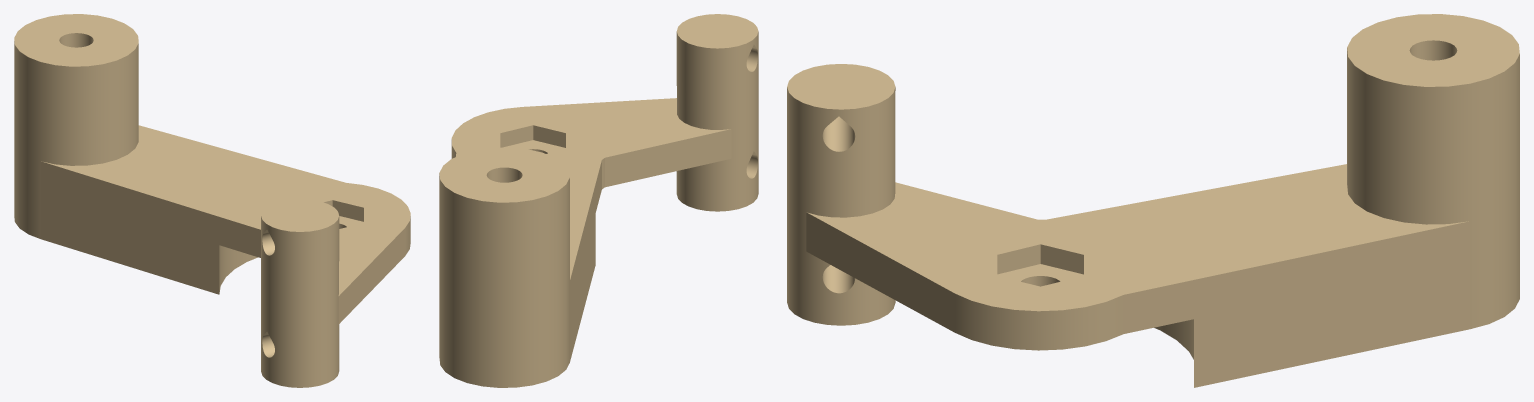
Rendered from arbre_susp_gauche.obj.
3 views of the same model, side by side, from view 1: azimuth 30°, elevation 25°; view 2: azimuth 150°, elevation 25°; view 3: azimuth 270°, elevation 25° (orthographic). The views are drawn at different scales.
Visible parts, largest first — view 1: arbre_susp_gauche; view 2: arbre_susp_gauche; view 3: arbre_susp_gauche.
Boxes of the visible parts, <box> form: arbre_susp_gauche: <box>14,14,410,387</box>; arbre_susp_gauche: <box>439,14,758,387</box>; arbre_susp_gauche: <box>787,14,1519,387</box>.
Size of the model in its own units: 1.74 by 1.25 by 3.38.
